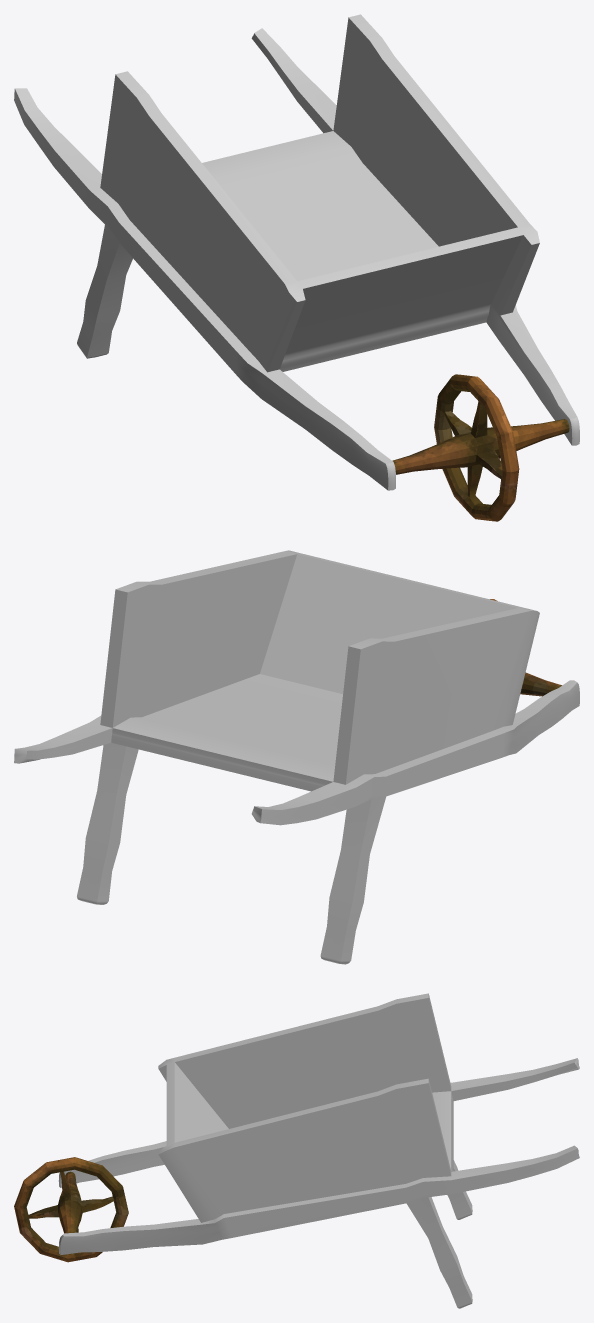
The model's file is Carrinho .fbx.
The picture shows the model from 3 angles, top to bottom: view 1: azimuth 30°, elevation 25°; view 2: azimuth 150°, elevation 25°; view 3: azimuth 270°, elevation 25°; orthographic projection. The views are drawn at different scales.
Parts seen in each view (by area): view 1: Carrinho_Mesh, Roda_Mesh; view 2: Carrinho_Mesh, Roda_Mesh; view 3: Carrinho_Mesh, Roda_Mesh.
Part boxes in pixels (box(x1,y1,x2,y2)): Carrinho_Mesh: box(14, 14, 579, 490); Roda_Mesh: box(392, 374, 569, 521); Carrinho_Mesh: box(14, 550, 579, 964); Roda_Mesh: box(490, 599, 561, 696); Carrinho_Mesh: box(58, 993, 579, 1308); Roda_Mesh: box(14, 1157, 128, 1262).
Bounding box in the file's own units: 87.79 × 93.81 × 216.
